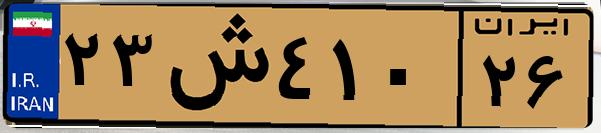0: (385, 28, 445, 110)
1: (330, 28, 385, 110)
2: (57, 26, 110, 100), (475, 38, 525, 113)
3: (110, 28, 158, 98)
4: (270, 28, 330, 110)
6: (525, 38, 570, 115)
ش: (158, 12, 270, 120)
